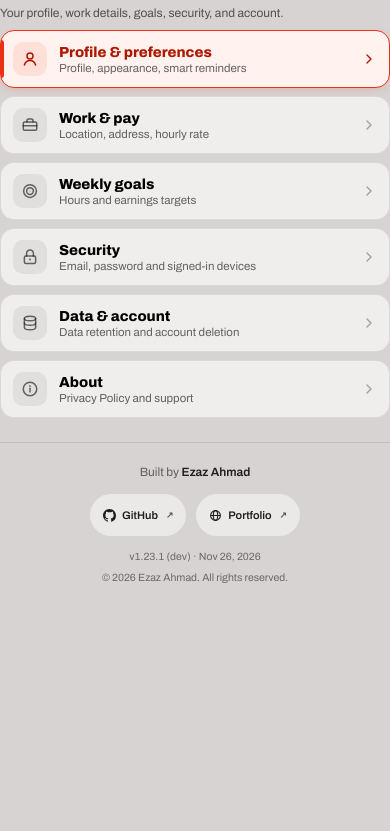
Test: Settings accessibility (axe) › has no detectable violations on the Security view with sessions loaded
Step 1. Click the button "Security Email, password and signed-in devices" → (30, 257), box left=0, top=228, right=389, bottom=286
(page scrolled)
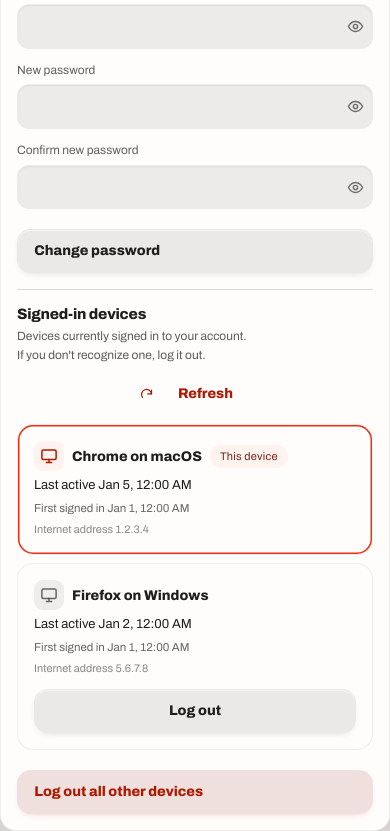
Result: the text "Chrome on macOS" is shown at left=72, top=446, right=202, bottom=467
